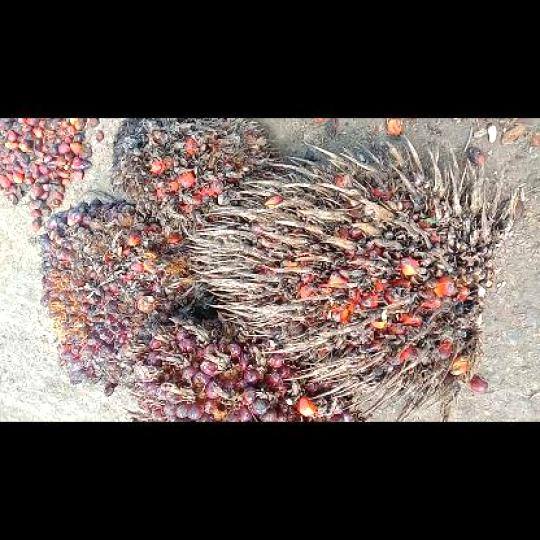masak: (38, 199, 214, 396), (120, 312, 360, 421)
terlalu masak: (185, 135, 519, 422), (112, 117, 275, 236)
